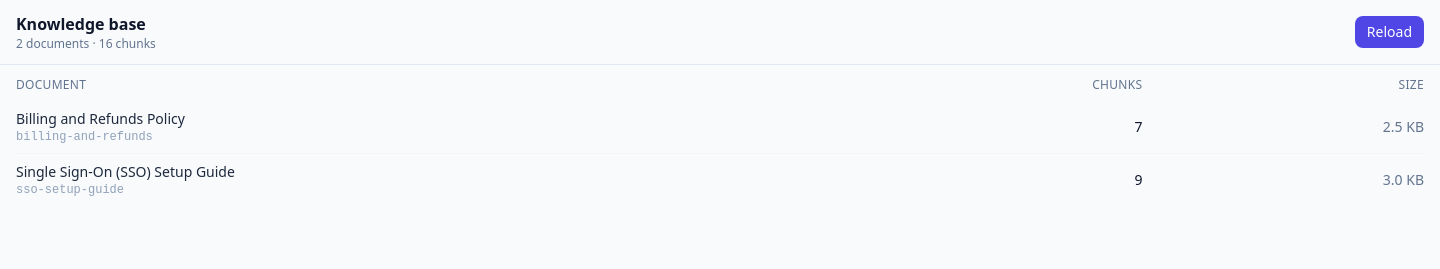
it: DocumentsPanel › reloads documents and shows the statistics
This screenshot has width=1440, height=269.
Expected: the text "Billing and Refunds Policy" is shown, [16, 109, 185, 128]
Click the button "Reload". click: (1389, 32)
box: [1355, 16, 1424, 48]
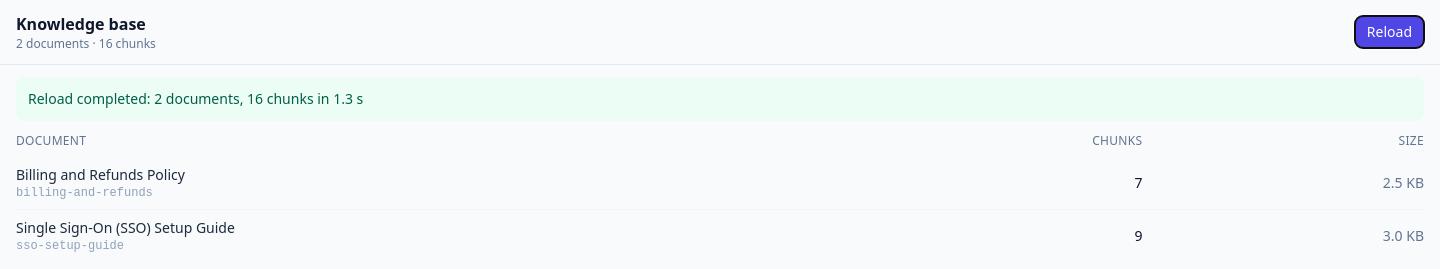
Result: the message reads "Reload completed: 2 documents, 16 chunks in 1.3 s" at [16, 77, 1424, 121]
